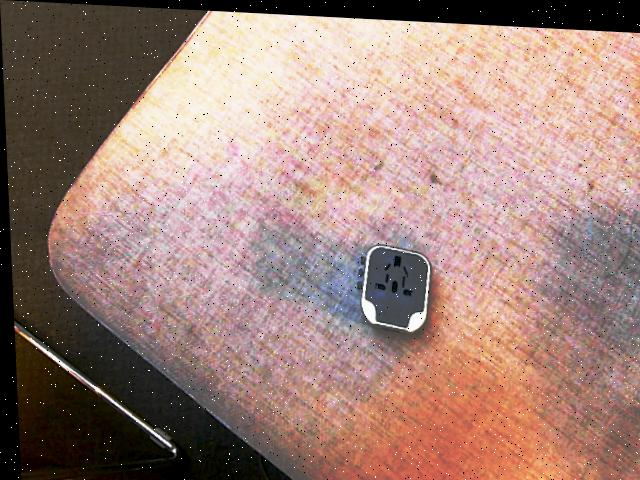adapter: (352, 239, 430, 331)
